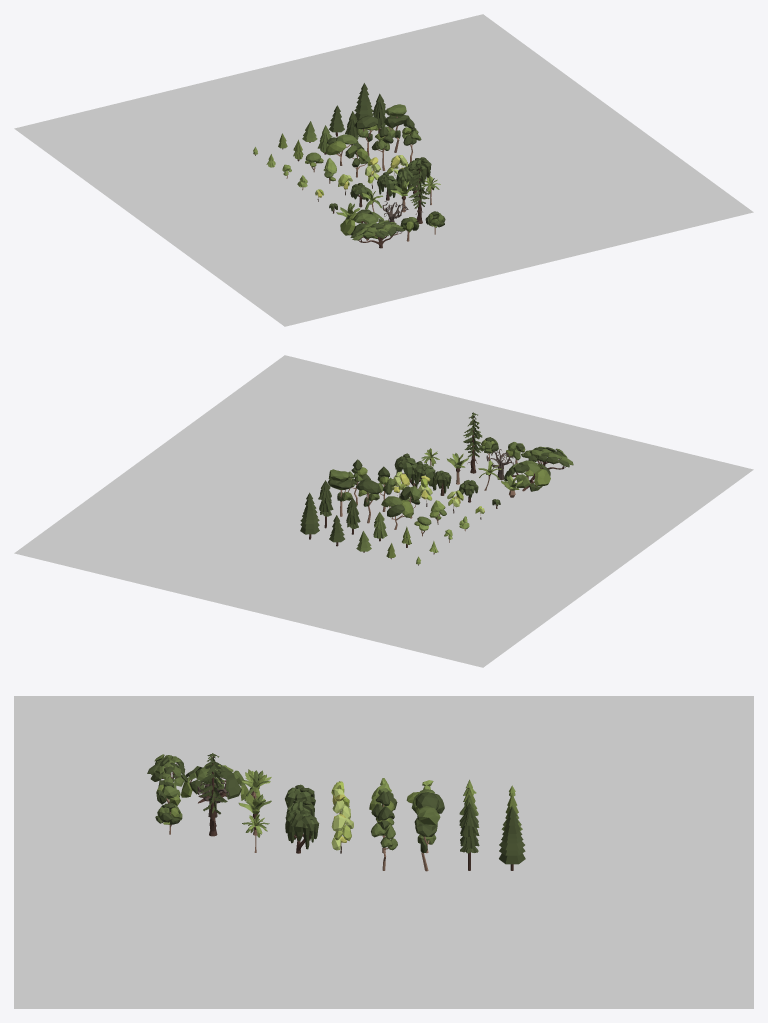
3 views of the same model, one above another, from view 1: azimuth 30°, elevation 25°; view 2: azimuth 150°, elevation 25°; view 3: azimuth 270°, elevation 25° (orthographic). The views are drawn at different scales.
Parts seen in each view (by area): view 1: Plane, Tree Type0 04 Model, Tree Type0 01 Model, Tree Type6 04 Model, Tree Type3 05 Model, Tree Type0 03 Model; view 2: Plane, Tree Type0 01 Model, Tree Type6 04 Model, Tree Type0 04 Model, Tree Type3 05 Model, Tree Type0 03 Model, Tree Type3 03 Model, Tree Type1 05 Model; view 3: Plane, Tree Type0 01 Model, Tree Type6 04 Model, Tree Type1 05 Model, Tree Type0 03 Model, Tree Type0 04 Model, Tree Type3 05 Model, Tree Type4 05 Model, Tree Type2 05 Model, Tree Type5 04 Model.
Boxes of the visible parts, x1,y1,x2,y2 form: Plane: [14, 14, 753, 326]; Tree Type0 04 Model: [350, 220, 405, 248]; Tree Type0 01 Model: [340, 209, 384, 240]; Tree Type6 04 Model: [396, 157, 431, 193]; Tree Type3 05 Model: [384, 104, 409, 152]; Tree Type0 03 Model: [408, 163, 429, 223]; Plane: [14, 355, 753, 667]; Tree Type0 01 Model: [504, 460, 550, 491]; Tree Type6 04 Model: [394, 453, 435, 487]; Tree Type0 04 Model: [521, 446, 573, 469]; Tree Type3 05 Model: [327, 469, 353, 516]; Tree Type0 03 Model: [463, 412, 482, 473]; Tree Type3 03 Model: [381, 496, 413, 529]; Tree Type1 05 Model: [300, 492, 319, 539]; Plane: [14, 696, 753, 1008]; Tree Type0 01 Model: [181, 763, 248, 803]; Tree Type6 04 Model: [285, 809, 319, 853]; Tree Type1 05 Model: [499, 807, 525, 870]; Tree Type0 03 Model: [199, 753, 227, 836]; Tree Type0 04 Model: [147, 754, 187, 788]; Tree Type3 05 Model: [414, 806, 440, 871]; Tree Type4 05 Model: [371, 806, 397, 870]; Tree Type2 05 Model: [459, 805, 479, 870]; Tree Type5 04 Model: [331, 814, 353, 853].
Bounding box in the file's own units: 69.24 × 8.7 × 69.24.
Materials: 2 (1 with a texture image).
